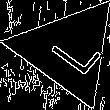L_NW: (37, 23, 99, 78)
